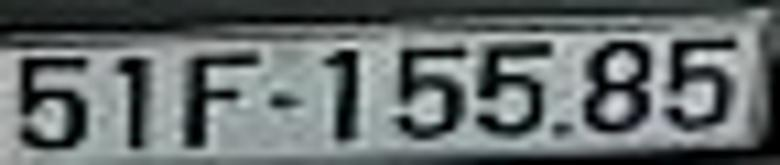-: (272, 92, 302, 106)
.: (554, 123, 570, 137)
1: (324, 50, 358, 139), (117, 54, 146, 151)
5: (481, 42, 548, 135), (670, 39, 737, 131), (398, 47, 462, 141), (21, 57, 85, 150)
8: (586, 40, 652, 131)
F: (188, 54, 257, 149)
